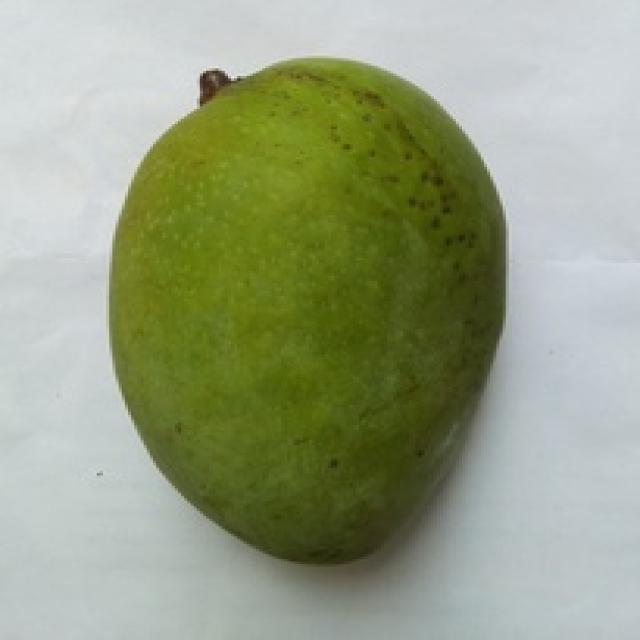Mango: (112, 58, 500, 559)
